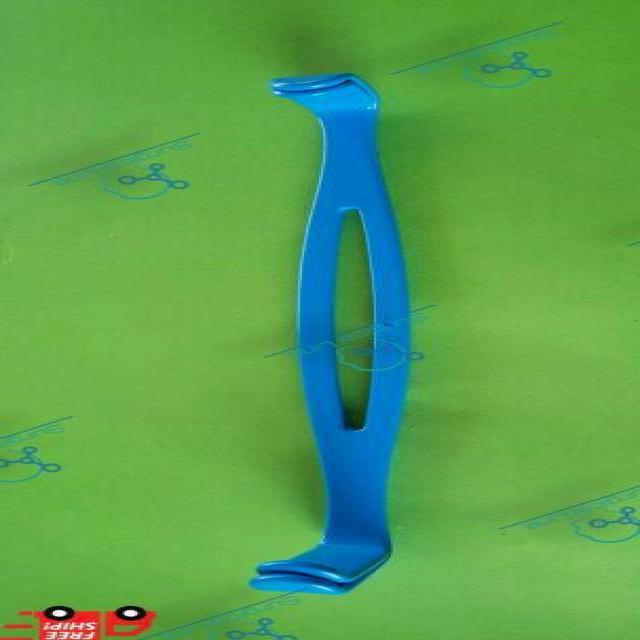Army_navy: (238, 66, 424, 599)
